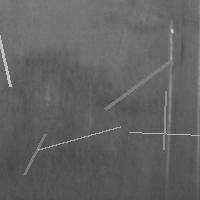scratches: (100, 56, 175, 114), (33, 122, 125, 155), (163, 16, 178, 175), (19, 129, 50, 179), (0, 0, 15, 91), (124, 127, 200, 141), (159, 86, 171, 154)
